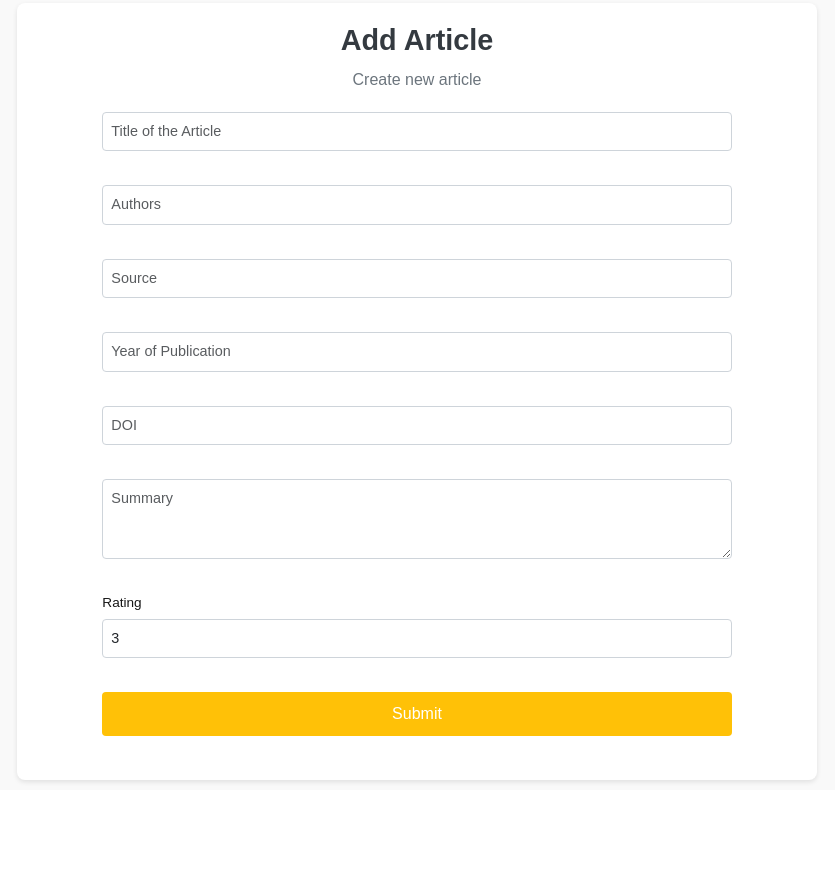
Test: displays validation errors on empty submit
Click the button "Submit".
click(417, 714)  # box [102, 692, 732, 736]
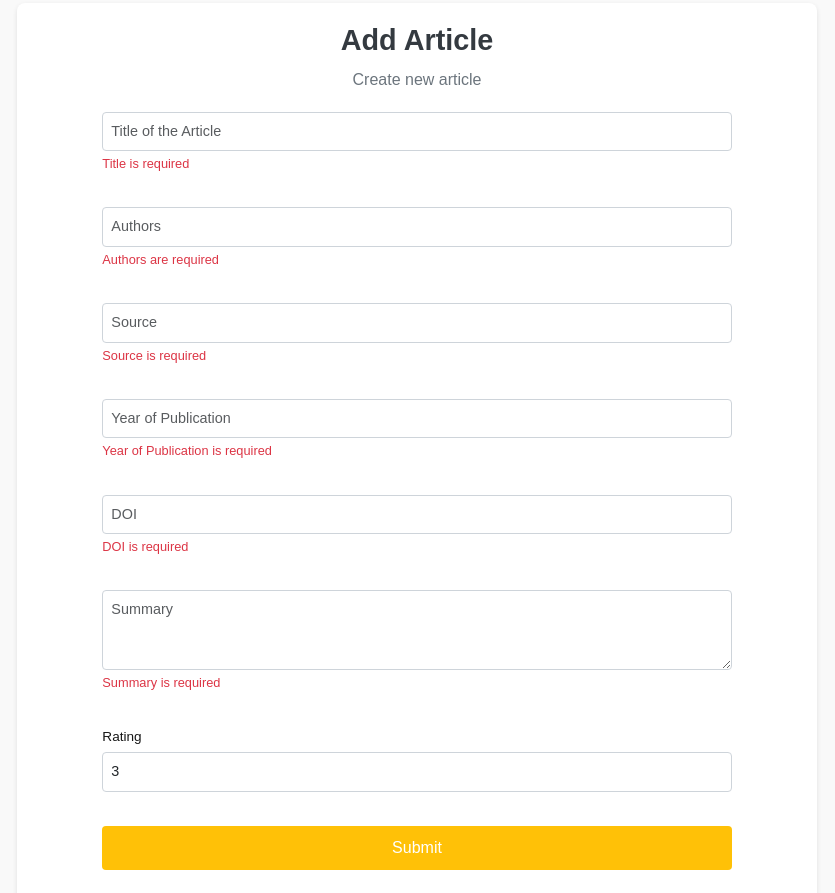
Now the text "Title is required" is shown, box [102, 156, 189, 171]
Now the text "Authors are required" is shown, box [102, 252, 219, 267]
